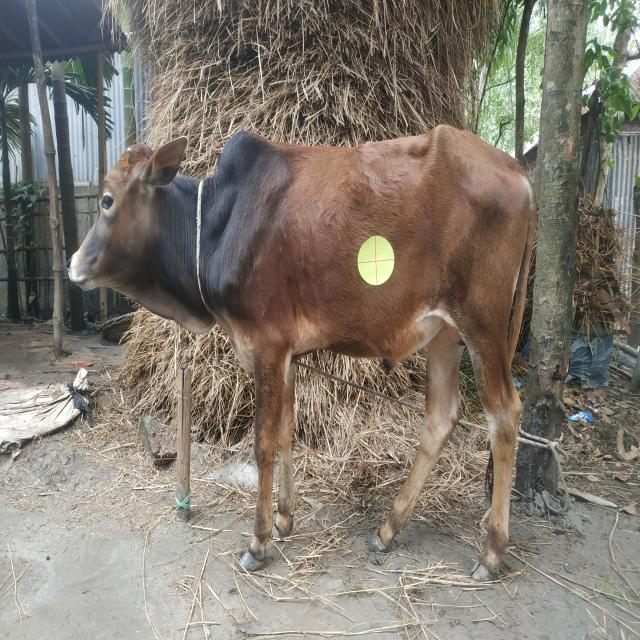badan_sapi: (213, 138, 537, 360)
sapi: (59, 101, 566, 595)
